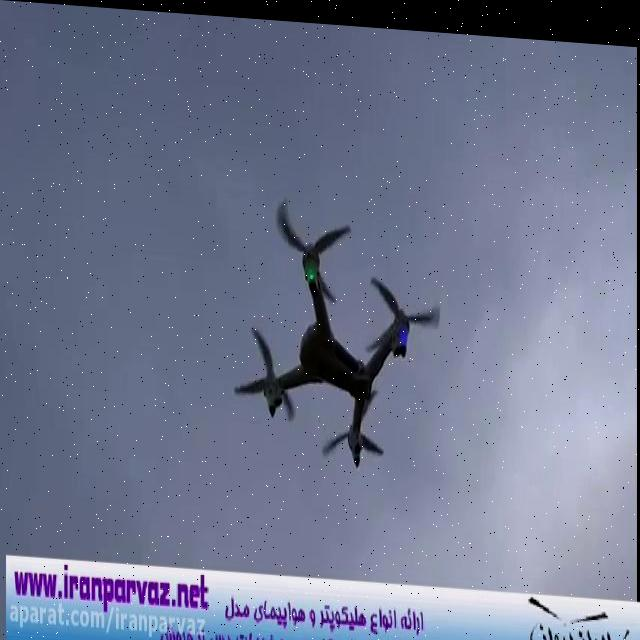drone: (230, 184, 442, 470)
